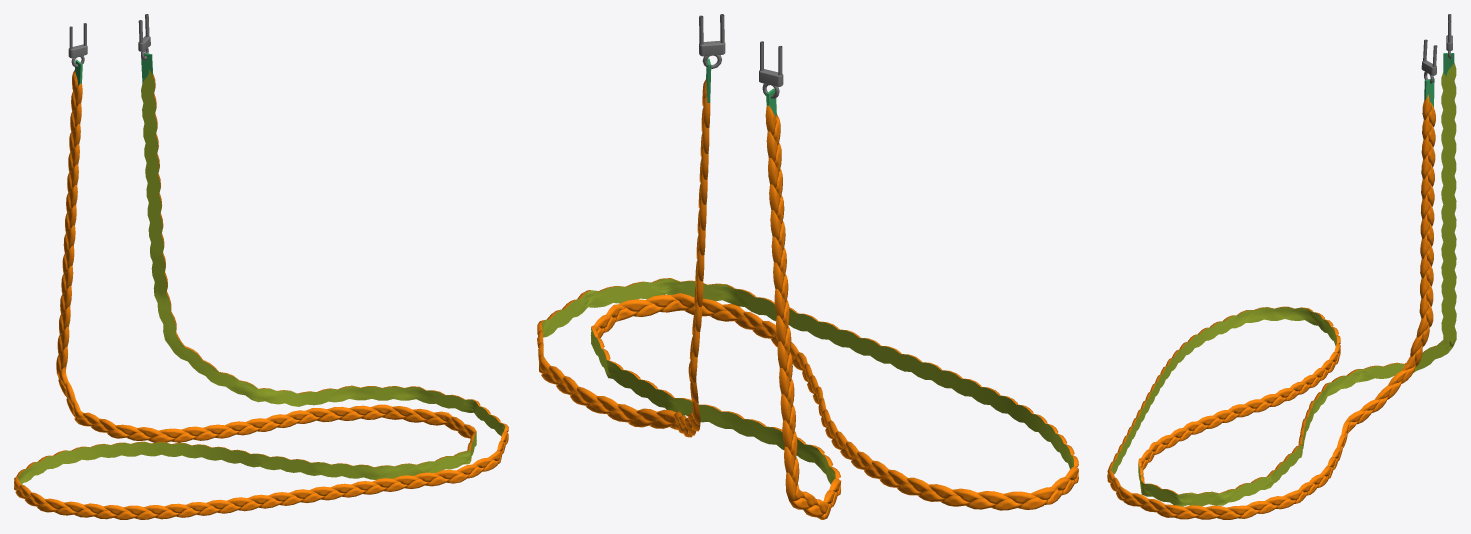
Rendered from strap7.fbx.
The picture shows the model from 3 angles, left to right: view 1: azimuth 30°, elevation 25°; view 2: azimuth 150°, elevation 25°; view 3: azimuth 270°, elevation 25°; orthographic projection. The views are drawn at different scales.
Visible parts, largest first — view 1: Strap04.001; view 2: Strap04.001; view 3: Strap04.001.
Part boxes in pixels (x1,y1,x2,y2): Strap04.001: (14,14,508,519); Strap04.001: (537,14,1078,519); Strap04.001: (1107,14,1456,519).
Bounding box in the file's own units: 453 × 384 × 329.
